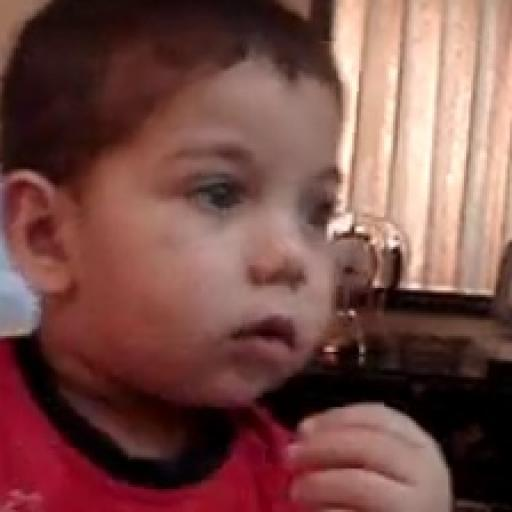Autism: (40, 0, 415, 483)
